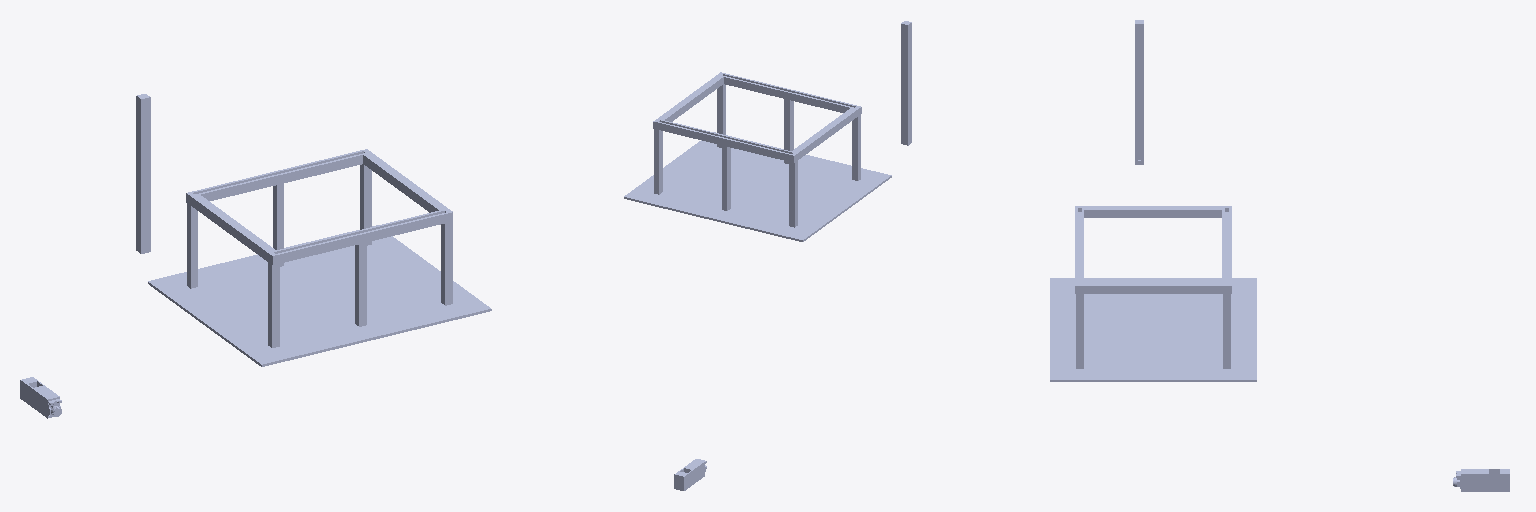
robot.urdf — test3:
<?xml version="1.0" encoding="utf-8"?>
<!-- This URDF was automatically created by SolidWorks to URDF Exporter! Originally created by [author] ([email redacted]) 
     Commit Version: 1.6.0-4-g7f85cfe  Build Version: 1.6.7995.38578
     For more information, please see http://wiki.ros.org/sw_urdf_exporter -->
<robot
  name="test3">
  <link
    name="gantry_x">
    <inertial>
      <origin
        xyz="-0.00035476 1.1281 0.0030492"
        rpy="0 0 0" />
      <mass
        value="12293" />
      <inertia
        ixx="64316"
        ixy="1.8363E-13"
        ixz="-9.9717E-12"
        iyy="107060"
        iyz="-0.050219"
        izz="45881" />
    </inertial>
    <visual>
      <origin
        xyz="0 0 0"
        rpy="0 0 0" />
      <geometry>
        <mesh
          filename="package://test3/meshes/gantry_x.STL" />
      </geometry>
      <material
        name="">
        <color
          rgba="0.79216 0.81961 0.93333 1" />
      </material>
    </visual>
    <collision>
      <origin
        xyz="0 0 0"
        rpy="0 0 0" />
      <geometry>
        <mesh
          filename="package://test3/meshes/gantry_x.STL" />
      </geometry>
    </collision>
  </link>
  <link
    name="gantry_y">
    <inertial>
      <origin
        xyz="0.184 0.17153 3.0187"
        rpy="0 0 0" />
      <mass
        value="740.03" />
      <inertia
        ixx="2278.6"
        ixy="8.2624E-12"
        ixz="1.0722E-13"
        iyy="2279.9"
        iyz="0.002039"
        izz="17.062" />
    </inertial>
    <visual>
      <origin
        xyz="0 0 0"
        rpy="0 0 0" />
      <geometry>
        <mesh
          filename="package://test3/meshes/gantry_y.STL" />
      </geometry>
      <material
        name="">
        <color
          rgba="0.79216 0.81961 0.93333 1" />
      </material>
    </visual>
    <collision>
      <origin
        xyz="0 0 0"
        rpy="0 0 0" />
      <geometry>
        <mesh
          filename="package://test3/meshes/gantry_y.STL" />
      </geometry>
    </collision>
  </link>
  <joint
    name="joint_x_y"
    type="prismatic">
    <origin
      xyz="-2.9895 0.28588 3.7013"
      rpy="1.5708 0 1.5708" />
    <parent
      link="gantry_x" />
    <child
      link="gantry_y" />
    <axis
      xyz="1 0 0" />
    <limit
      lower="0"
      upper="0"
      effort="0"
      velocity="0" />
  </joint>
  <link
    name="gantry_base">
    <inertial>
      <origin
        xyz="0.36884 7.271 17.038"
        rpy="0 0 0" />
      <mass
        value="645.33" />
      <inertia
        ixx="213.99"
        ixy="0.12239"
        ixz="-0.00078074"
        iyy="42.439"
        iyz="-0.0004033"
        izz="227.81" />
    </inertial>
    <visual>
      <origin
        xyz="0 0 0"
        rpy="0 0 0" />
      <geometry>
        <mesh
          filename="package://test3/meshes/gantry_base.STL" />
      </geometry>
      <material
        name="">
        <color
          rgba="0.79216 0.81961 0.93333 1" />
      </material>
    </visual>
    <collision>
      <origin
        xyz="0 0 0"
        rpy="0 0 0" />
      <geometry>
        <mesh
          filename="package://test3/meshes/gantry_base.STL" />
      </geometry>
    </collision>
  </link>
  <joint
    name="joint_y_base"
    type="prismatic">
    <origin
      xyz="17.238 -7.5966 3.9575"
      rpy="3.1416 -1.5708 0" />
    <parent
      link="gantry_y" />
    <child
      link="gantry_base" />
    <axis
      xyz="1 0 0" />
    <limit
      lower="0"
      upper="0"
      effort="0"
      velocity="0" />
  </joint>
  <link
    name="link_1">
    <inertial>
      <origin
        xyz="0.15386 -0.01084 -0.23834"
        rpy="0 0 0" />
      <mass
        value="39.488" />
      <inertia
        ixx="0.82415"
        ixy="-0.13884"
        ixz="-0.16266"
        iyy="1.5307"
        iyz="0.086028"
        izz="1.6236" />
    </inertial>
    <visual>
      <origin
        xyz="0 0 0"
        rpy="0 0 0" />
      <geometry>
        <mesh
          filename="package://test3/meshes/link_1.STL" />
      </geometry>
      <material
        name="">
        <color
          rgba="0.75294 0.75294 0.75294 1" />
      </material>
    </visual>
    <collision>
      <origin
        xyz="0 0 0"
        rpy="0 0 0" />
      <geometry>
        <mesh
          filename="package://test3/meshes/link_1.STL" />
      </geometry>
    </collision>
  </link>
  <joint
    name="joint_1"
    type="continuous">
    <origin
      xyz="0.44563 5.7729 17.038"
      rpy="-1.5708 -0.81903 3.1416" />
    <parent
      link="gantry_base" />
    <child
      link="link_1" />
    <axis
      xyz="0 0 1" />
  </joint>
  <link
    name="link_2">
    <inertial>
      <origin
        xyz="0.020078 0.14605 0.39436"
        rpy="0 0 0" />
      <mass
        value="26.224" />
      <inertia
        ixx="2.763"
        ixy="-0.0029338"
        ixz="-0.019263"
        iyy="2.8501"
        iyz="-0.03169"
        izz="0.15604" />
    </inertial>
    <visual>
      <origin
        xyz="0 0 0"
        rpy="0 0 0" />
      <geometry>
        <mesh
          filename="package://test3/meshes/link_2.STL" />
      </geometry>
      <material
        name="">
        <color
          rgba="0.75294 0.75294 0.75294 1" />
      </material>
    </visual>
    <collision>
      <origin
        xyz="0 0 0"
        rpy="0 0 0" />
      <geometry>
        <mesh
          filename="package://test3/meshes/link_2.STL" />
      </geometry>
    </collision>
  </link>
  <joint
    name="joint_2"
    type="continuous">
    <origin
      xyz="0.32 0 -0.1973"
      rpy="0 -0.01315 0" />
    <parent
      link="link_1" />
    <child
      link="link_2" />
    <axis
      xyz="0 1 0" />
  </joint>
</robot>

--- Render facts (derived) ---
Views: 3 orthographic renders of the robot side by side, from view 1: azimuth 30°, elevation 25°; view 2: azimuth 150°, elevation 25°; view 3: azimuth 270°, elevation 25°.
Model test3 with 5 links and 4 joints (2 continuous, 2 prismatic), rooted at gantry_x, posed all joints at 0.
Visible links, largest first — view 1: gantry_x, gantry_y, gantry_base; view 2: gantry_x, gantry_y, gantry_base; view 3: gantry_x, gantry_y, gantry_base.
Boxes of the visible links, left/top/right/bottom form: gantry_x: left=148, top=149, right=491, bottom=366; gantry_y: left=136, top=94, right=150, bottom=253; gantry_base: left=20, top=377, right=61, bottom=418; gantry_x: left=624, top=72, right=891, bottom=241; gantry_y: left=901, top=21, right=911, bottom=145; gantry_base: left=674, top=459, right=706, bottom=490; gantry_x: left=1050, top=206, right=1256, bottom=381; gantry_y: left=1135, top=20, right=1143, bottom=164; gantry_base: left=1453, top=469, right=1509, bottom=491.
Size in the robot's own frame: 12.37 by 17.93 by 18.39 metres.
3 mesh visuals loaded from 5 distinct referenced files (3 binary STL); not drawn: 2 (reference not matched to a file when rendering).